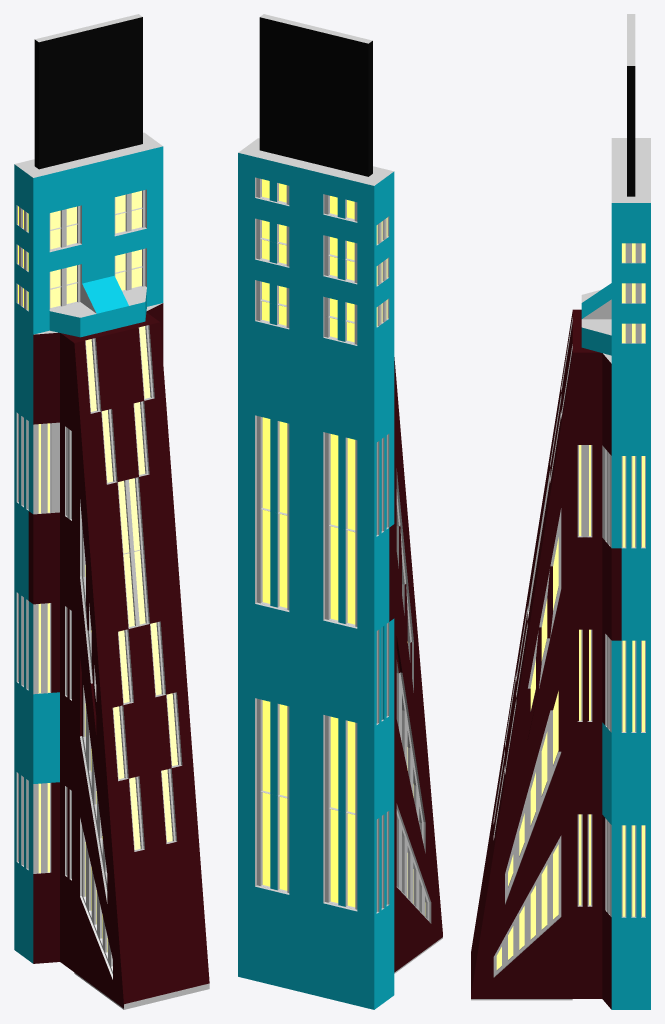
The model's file is 45_el_celebracion_boulevard.fbx.
3 renders of one model, left to right at view 1: azimuth 30°, elevation 25°; view 2: azimuth 150°, elevation 25°; view 3: azimuth 270°, elevation 25°, orthographic. The views are drawn at different scales.
Visible parts, largest first — view 1: Cube; view 2: Cube; view 3: Cube.
Part boxes in pixels (box(x1,y1,x2,y2)): Cube: box(14, 14, 209, 1009); Cube: box(238, 14, 442, 1009); Cube: box(471, 14, 650, 1009).
Size of the model in its own units: 209 by 1406 by 244.
